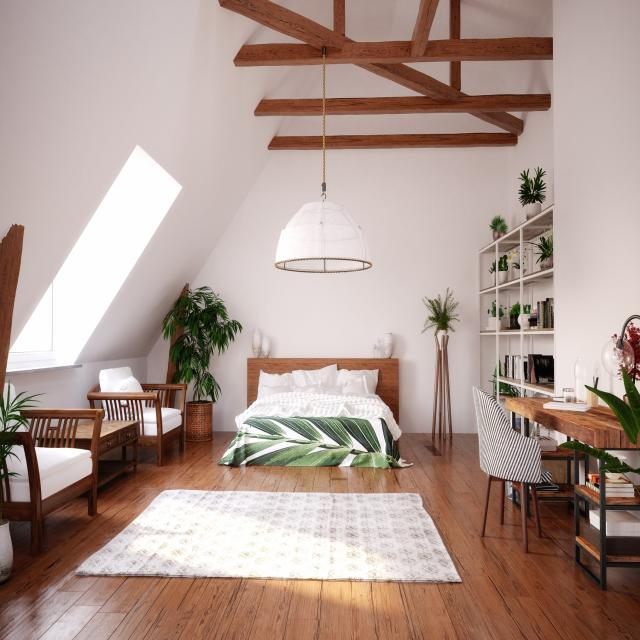modern chair: (467, 385, 541, 560), (82, 373, 188, 471)
modern shelf: (461, 202, 556, 393)
